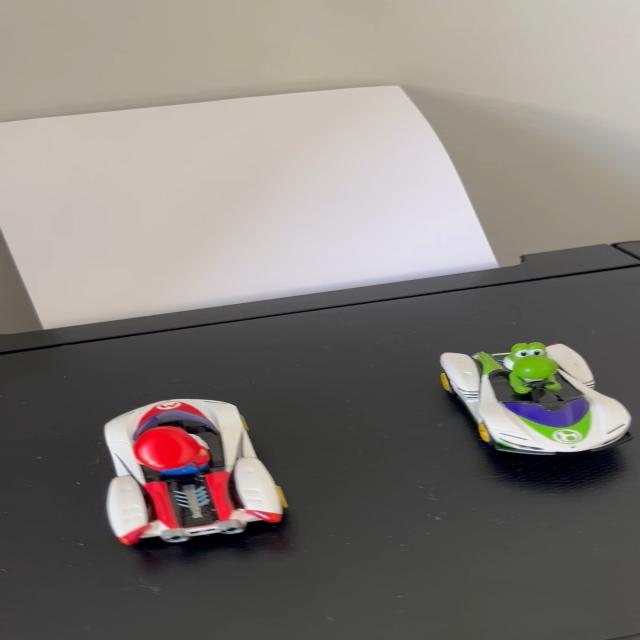mario: (90, 389, 323, 558)
yoshi: (424, 332, 640, 468)
